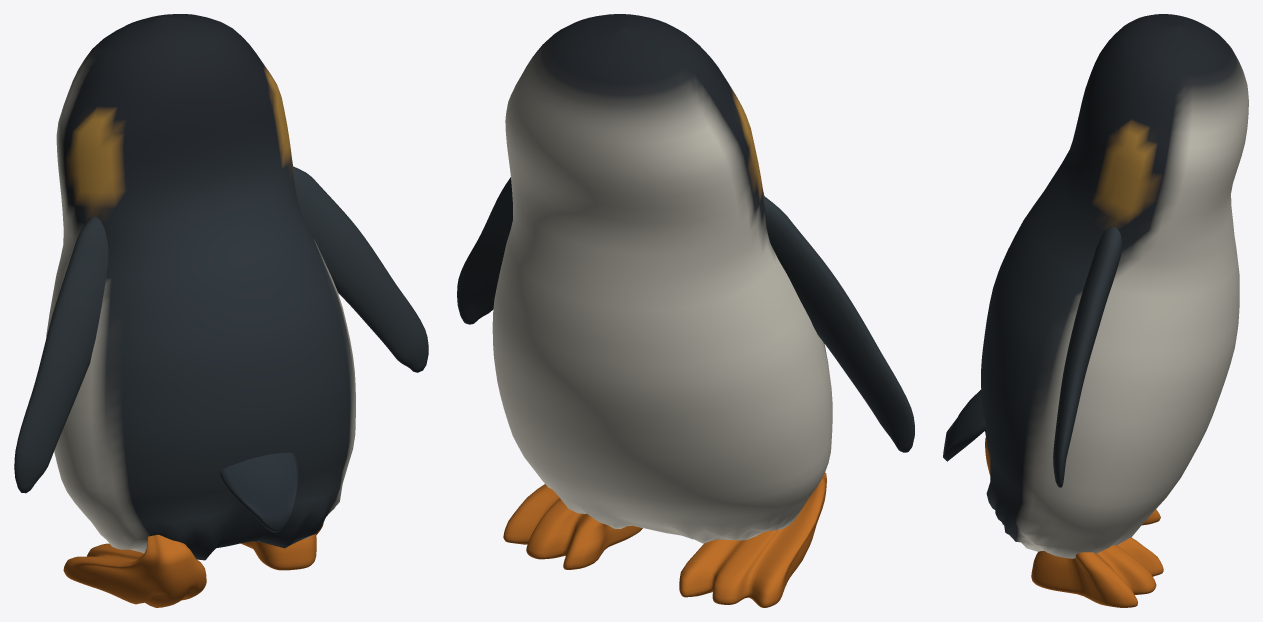
Rendered from candidate.glb.
3 views of the same model, side by side, from view 1: azimuth 30°, elevation 25°; view 2: azimuth 150°, elevation 25°; view 3: azimuth 270°, elevation 25° (orthographic). The views are drawn at different scales.
Visible parts, largest first — view 1: RearBlockout; view 2: RearBlockout; view 3: RearBlockout.
Part boxes in pixels (x1,y1,x2,y2): RearBlockout: (14,14,428,607); RearBlockout: (457,14,914,607); RearBlockout: (943,14,1248,607).
Bounding box in the file's own units: 1.42 × 1.69 × 0.8989.
